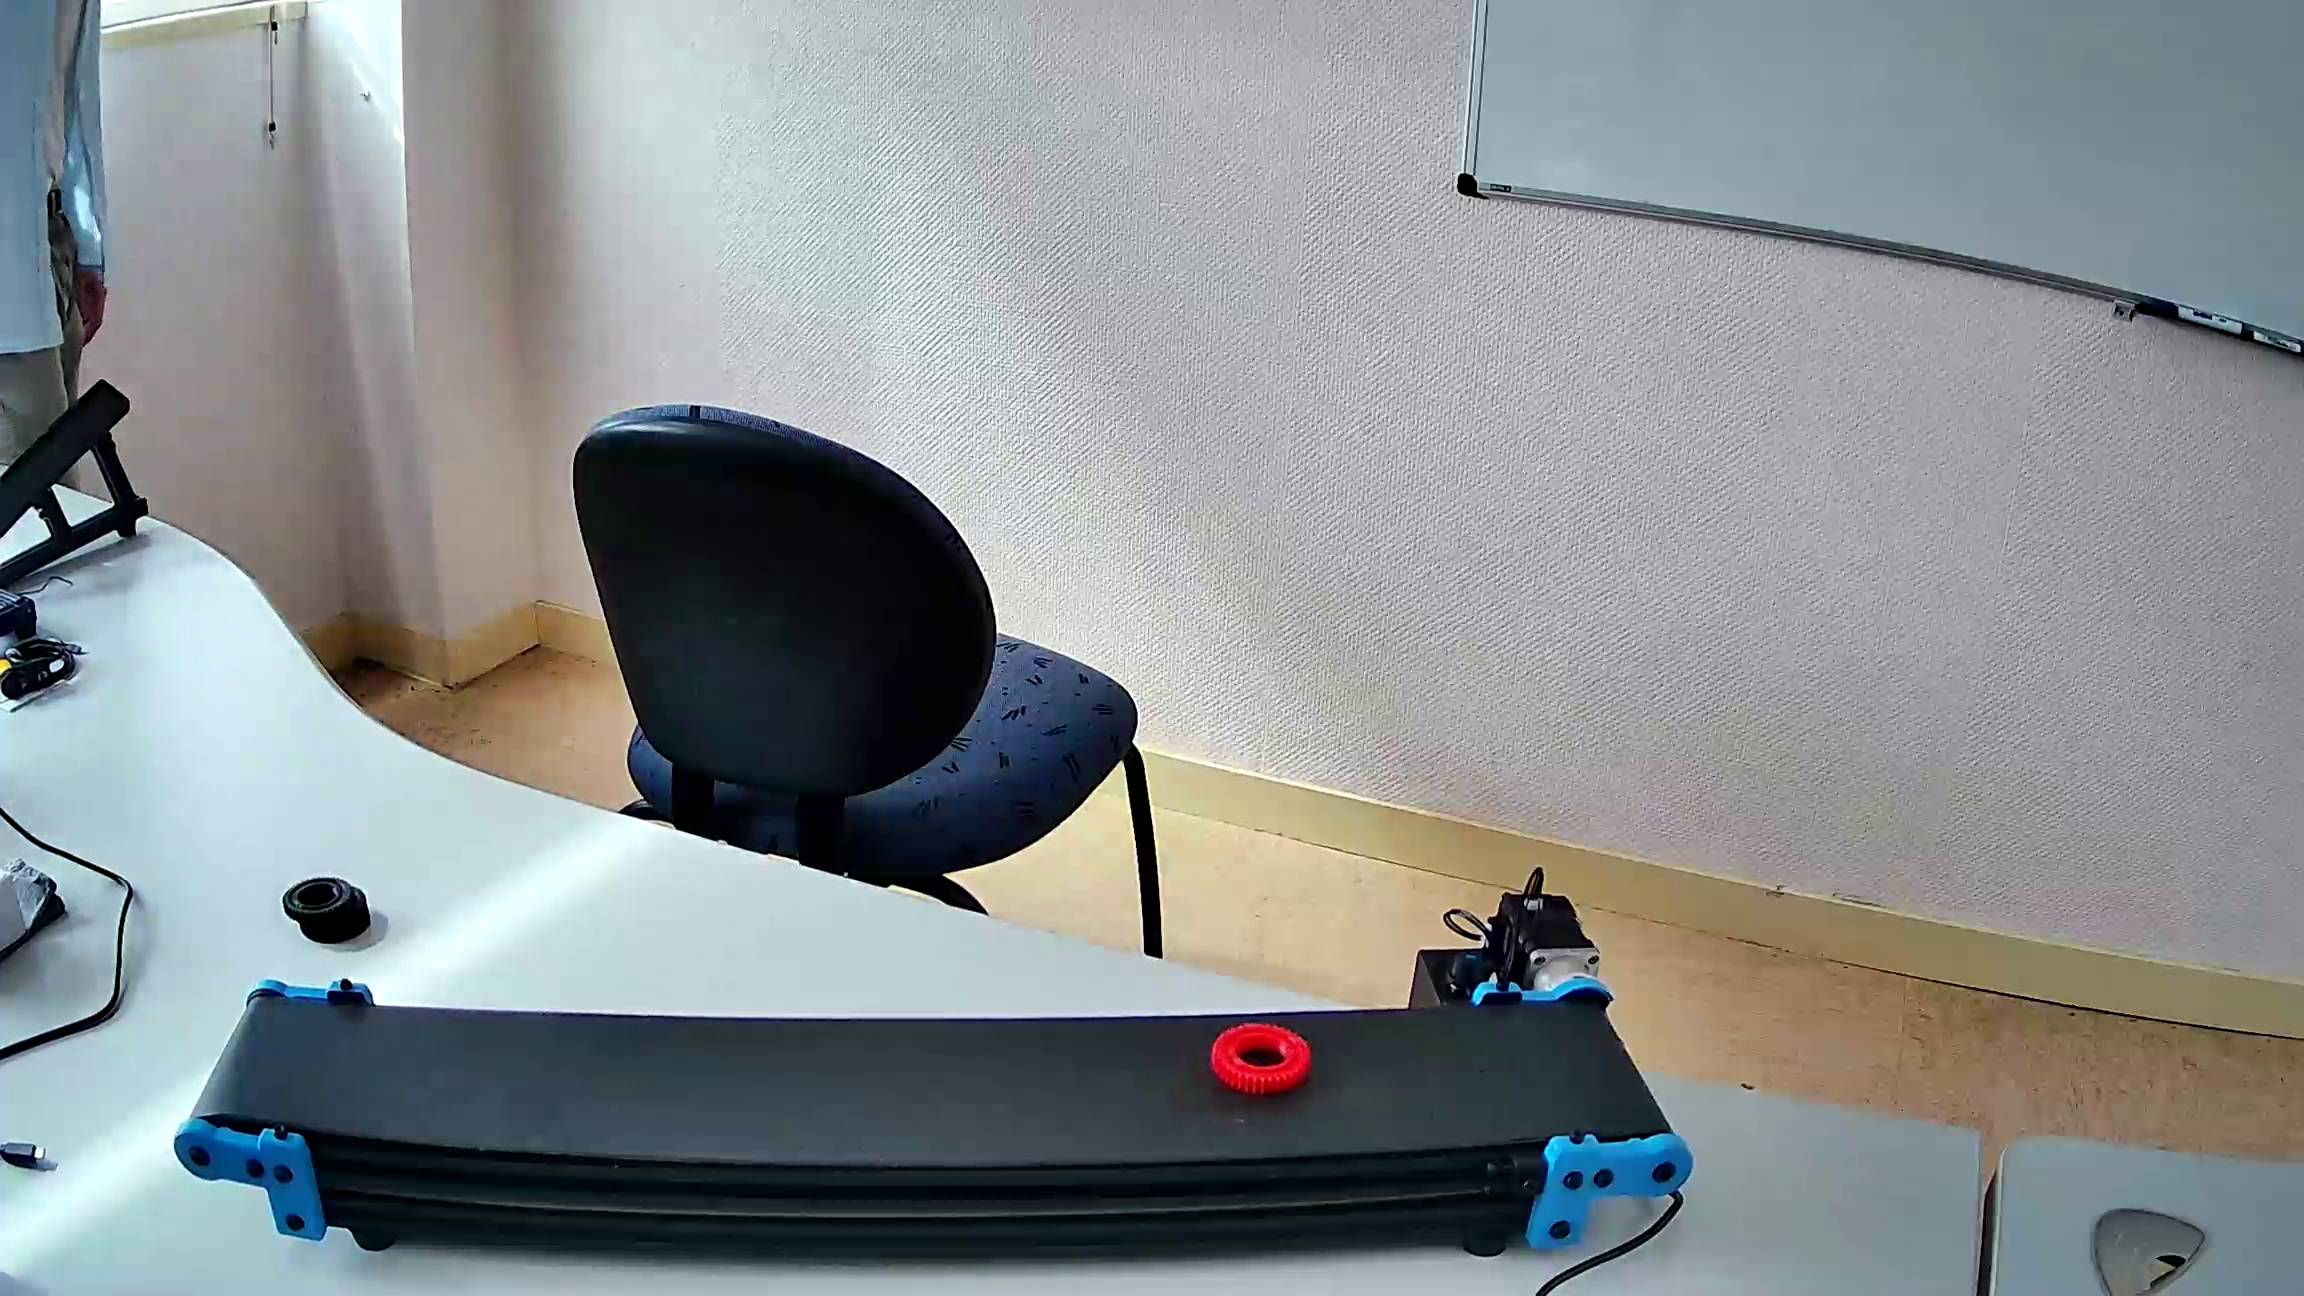good: (285, 873, 370, 942)
not_good: (1215, 1024, 1309, 1097)
